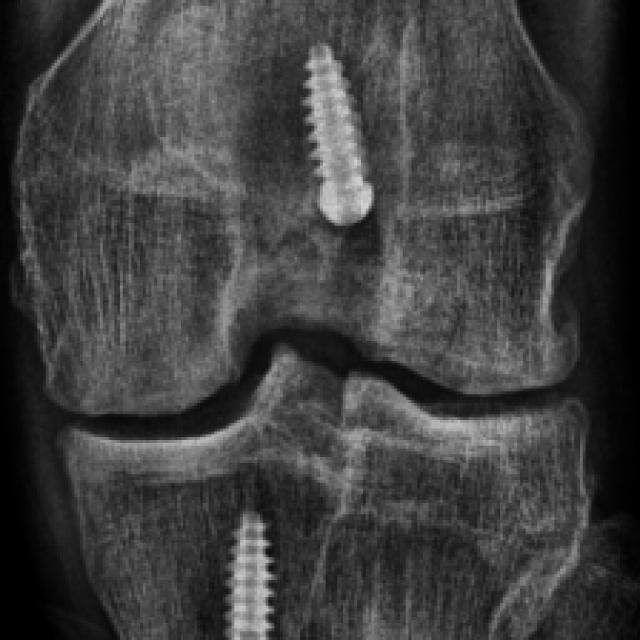femur: (9, 0, 594, 416)
tibia: (56, 341, 591, 640)
